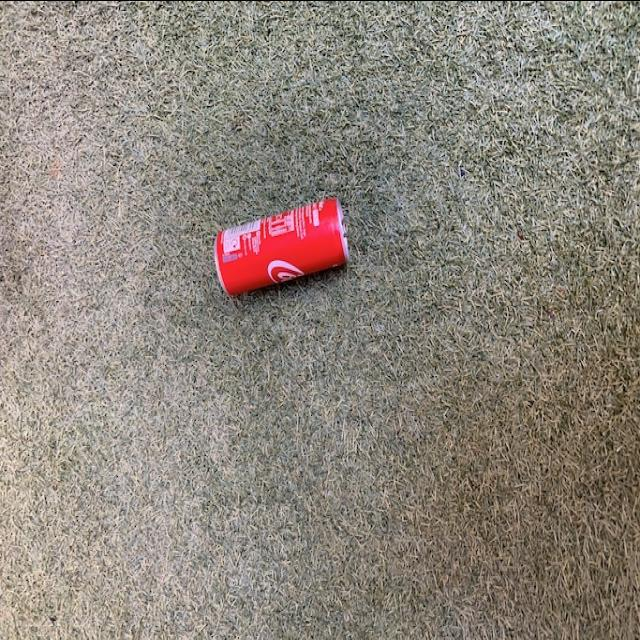litter: (214, 183, 356, 305)
